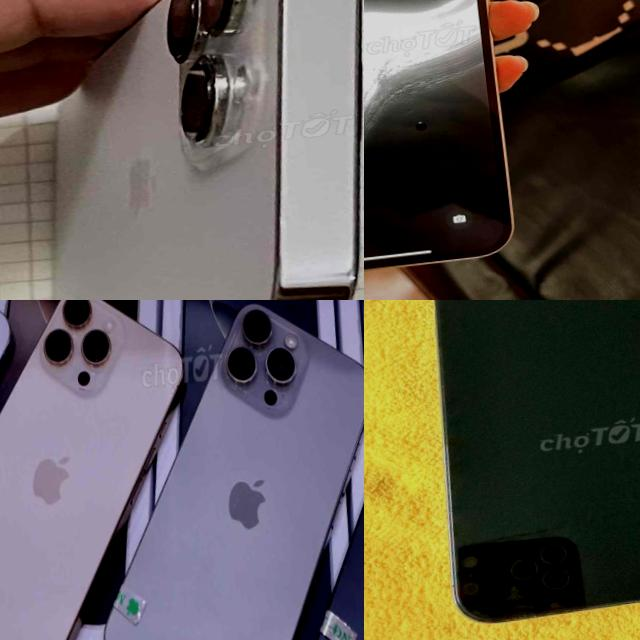gen_12_13: (0, 0, 364, 300), (364, 0, 560, 291)
gen_14: (395, 300, 640, 631)
gen_16: (104, 304, 364, 640), (0, 300, 183, 640)
